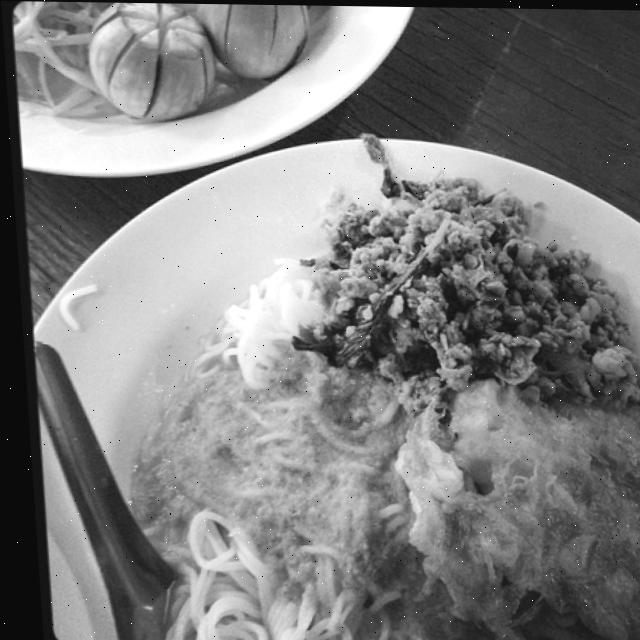面条主食: (35, 63, 640, 638)
